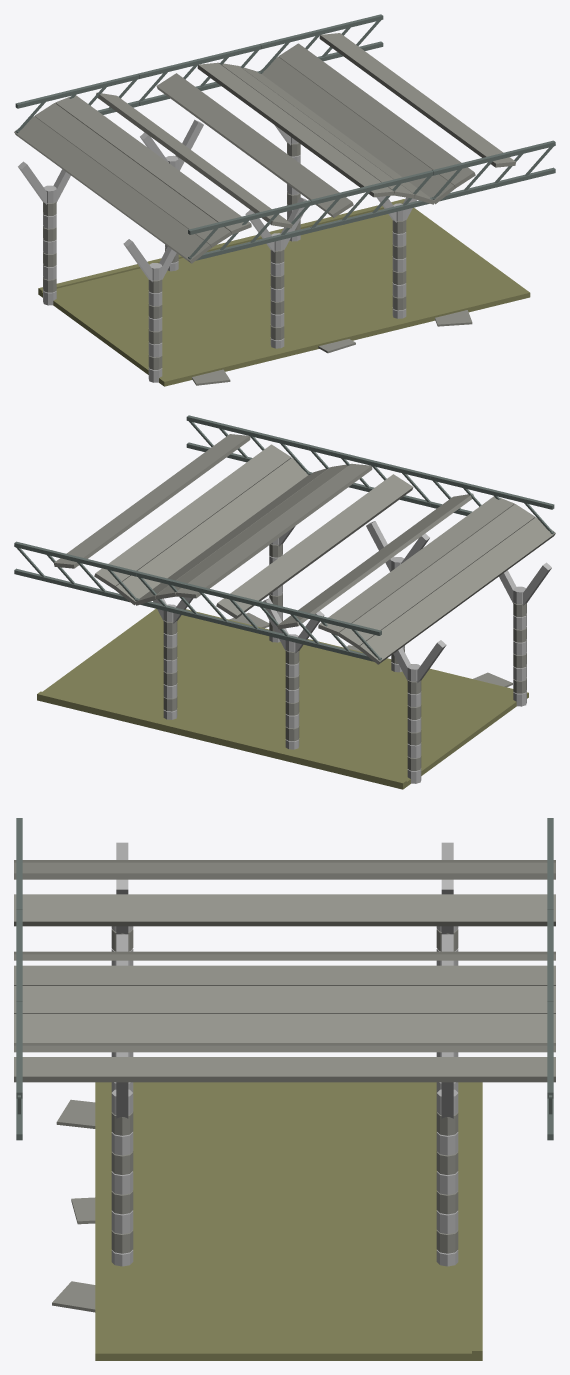
Rendered from SM_MarquesinaBus_v1_Chapas_e0_Sano_LOD0.fbx.
The picture shows the model from 3 angles, top to bottom: view 1: azimuth 30°, elevation 25°; view 2: azimuth 150°, elevation 25°; view 3: azimuth 270°, elevation 25°; orthographic projection. The views are drawn at different scales.
Visible parts, largest first — view 1: SM_marquesina_bus_v4_LOD0; view 2: SM_marquesina_bus_v4_LOD0; view 3: SM_marquesina_bus_v4_LOD0.
Part boxes in pixels (x1,y1,x2,y2): SM_marquesina_bus_v4_LOD0: (14,14,555,386); SM_marquesina_bus_v4_LOD0: (14,415,555,789); SM_marquesina_bus_v4_LOD0: (14,818,555,1360).
Bounding box in the file's own units: 13.01 × 5.46 × 10.
